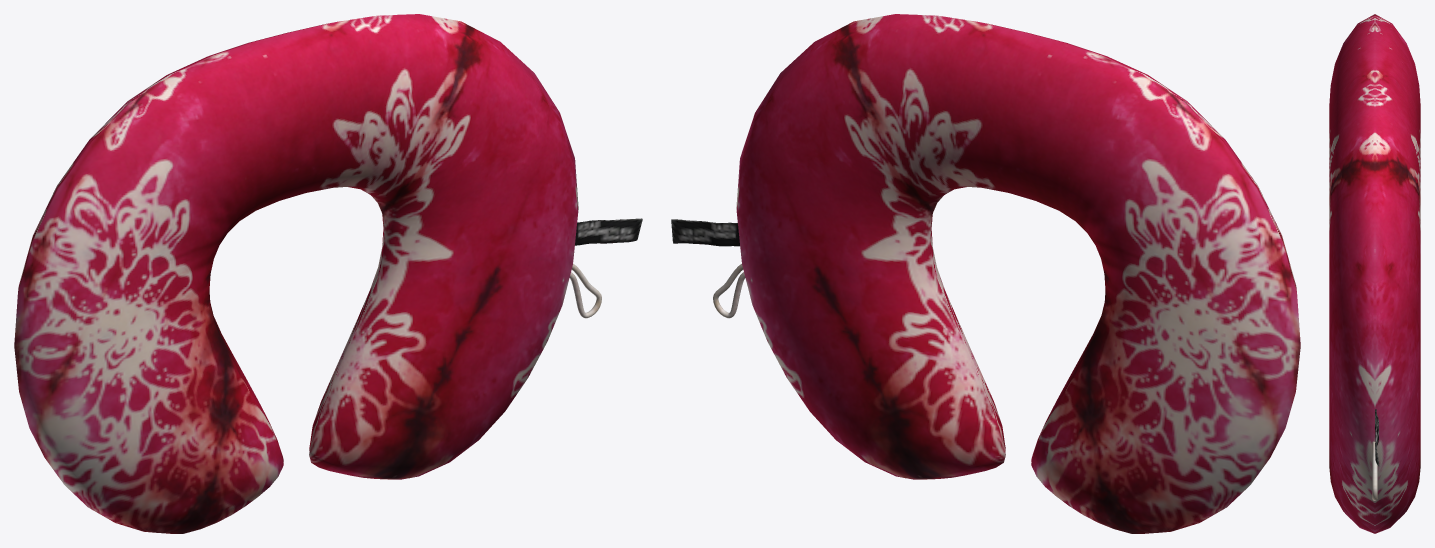
The model's file is neck_pillow.glb.
The picture shows the model from 3 angles, left to right: view 1: azimuth 30°, elevation 25°; view 2: azimuth 150°, elevation 25°; view 3: azimuth 270°, elevation 25°; orthographic projection. The views are drawn at different scales.
Parts seen in each view (by area): view 1: pPlane5, pPlane6; view 2: pPlane5, pPlane6; view 3: pPlane5, pCylinder1, pPlane6.
Boxes of the visible parts, left/top/right/bottom form: pPlane5: left=14, top=14, right=578, bottom=533; pPlane6: left=575, top=218, right=642, bottom=245; pPlane5: left=736, top=14, right=1300, bottom=533; pPlane6: left=671, top=219, right=739, bottom=246; pPlane5: left=1329, top=14, right=1420, bottom=533; pCylinder1: left=1372, top=441, right=1377, bottom=500; pPlane6: left=1375, top=409, right=1379, bottom=466.
Size of the model in its own units: 7.68 by 5.53 by 1.09.
1 material, 1 textured.
